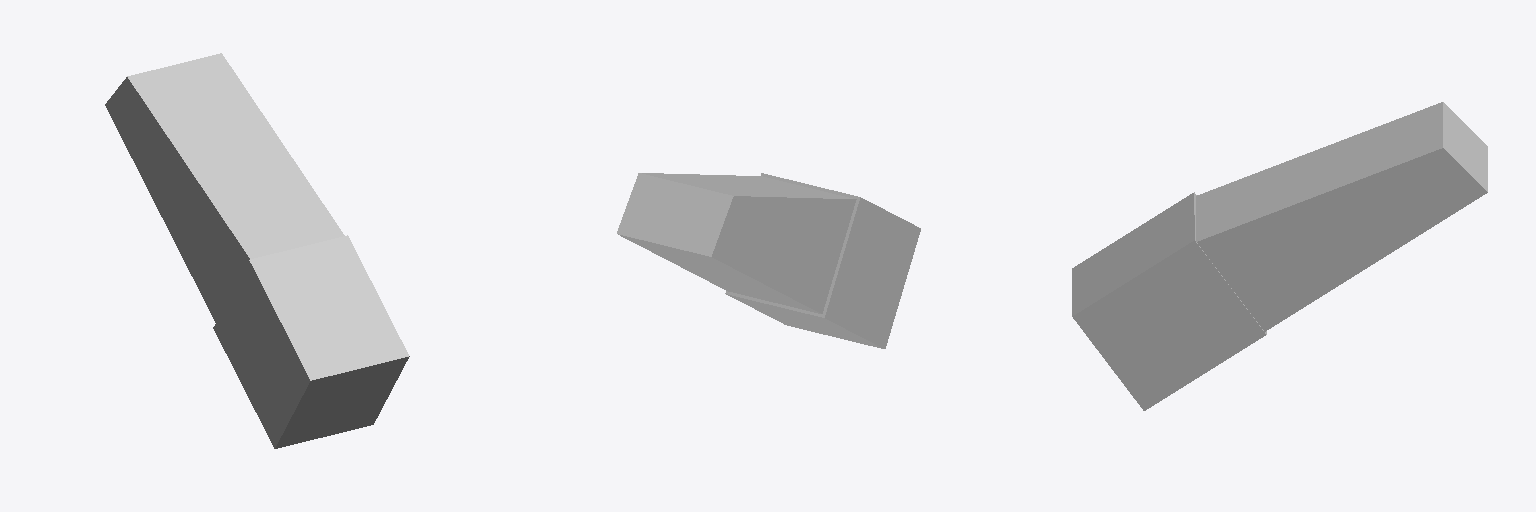
Rendered from hand_002.obj.
The picture shows the model from 3 angles: view 1: azimuth 30°, elevation 25°; view 2: azimuth 150°, elevation 25°; view 3: azimuth 270°, elevation 25°; orthographic projection.
Parts seen in each view (by area): view 1: Куб; view 2: Куб; view 3: Куб.
Part boxes in pixels (x1,y1,x2,y2): Куб: (105, 53, 409, 448); Куб: (617, 173, 920, 348); Куб: (1072, 102, 1487, 410).
Size of the model in its own units: 0.2006 by 0.5068 by 0.7272.